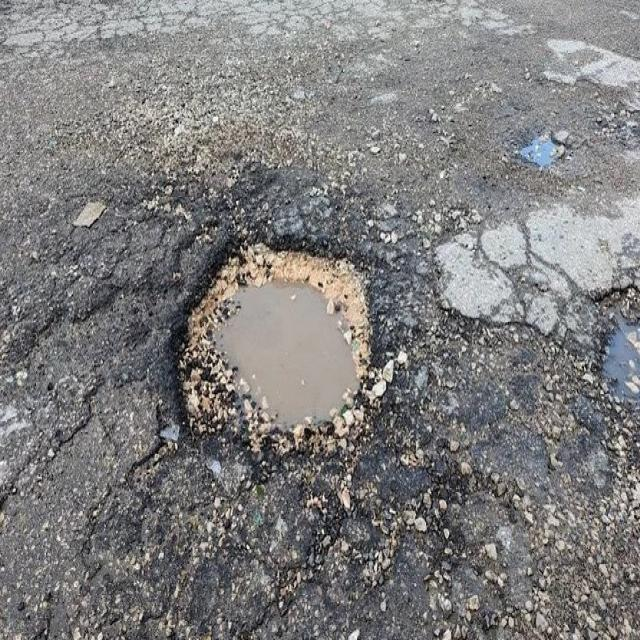major_pothole: (163, 204, 391, 471)
medium_pothole: (596, 298, 638, 416)
minor_pothole: (520, 125, 567, 166)
